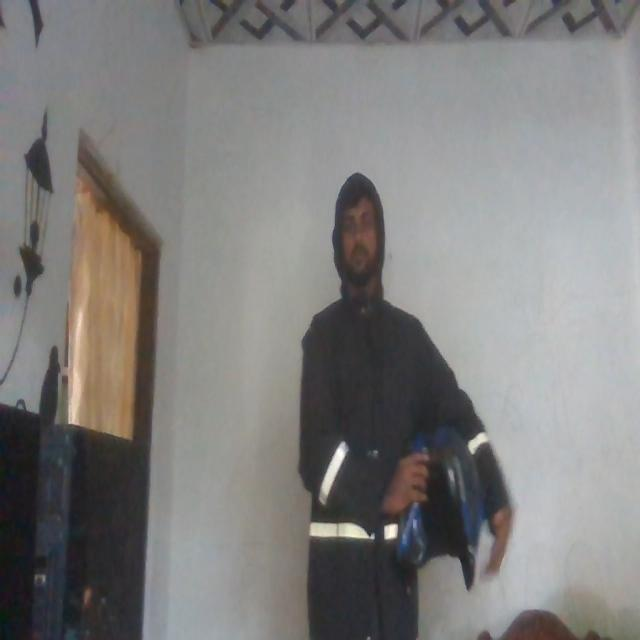Jacket_Wearer: (295, 287, 437, 640)
Person: (289, 155, 500, 640)
